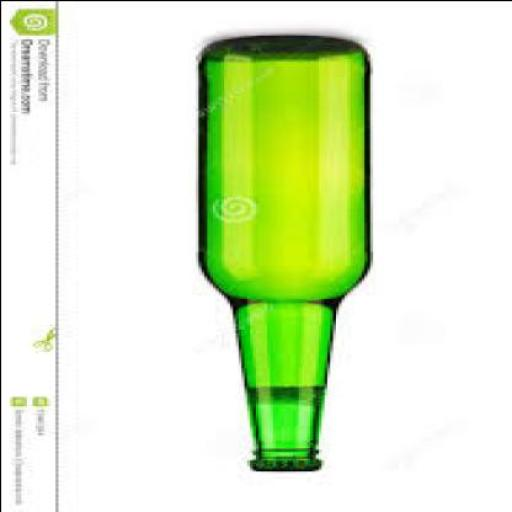glass: (200, 36, 372, 461)
metal: (249, 458, 326, 474)
